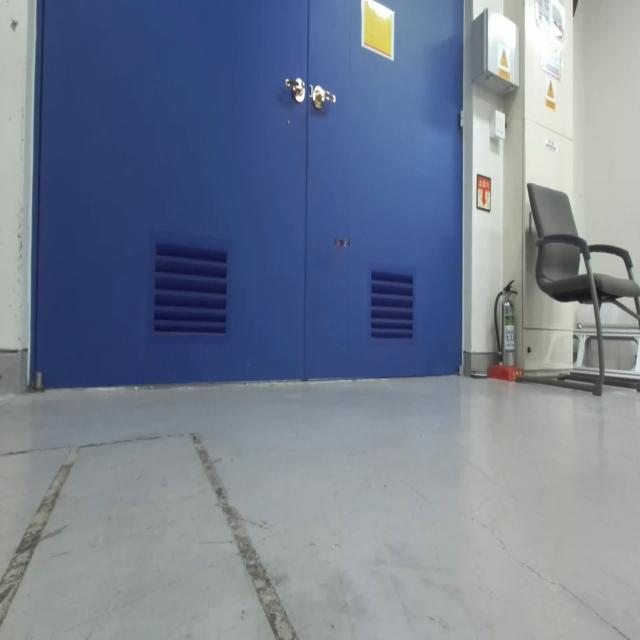crazyflie: (327, 225, 357, 260)
